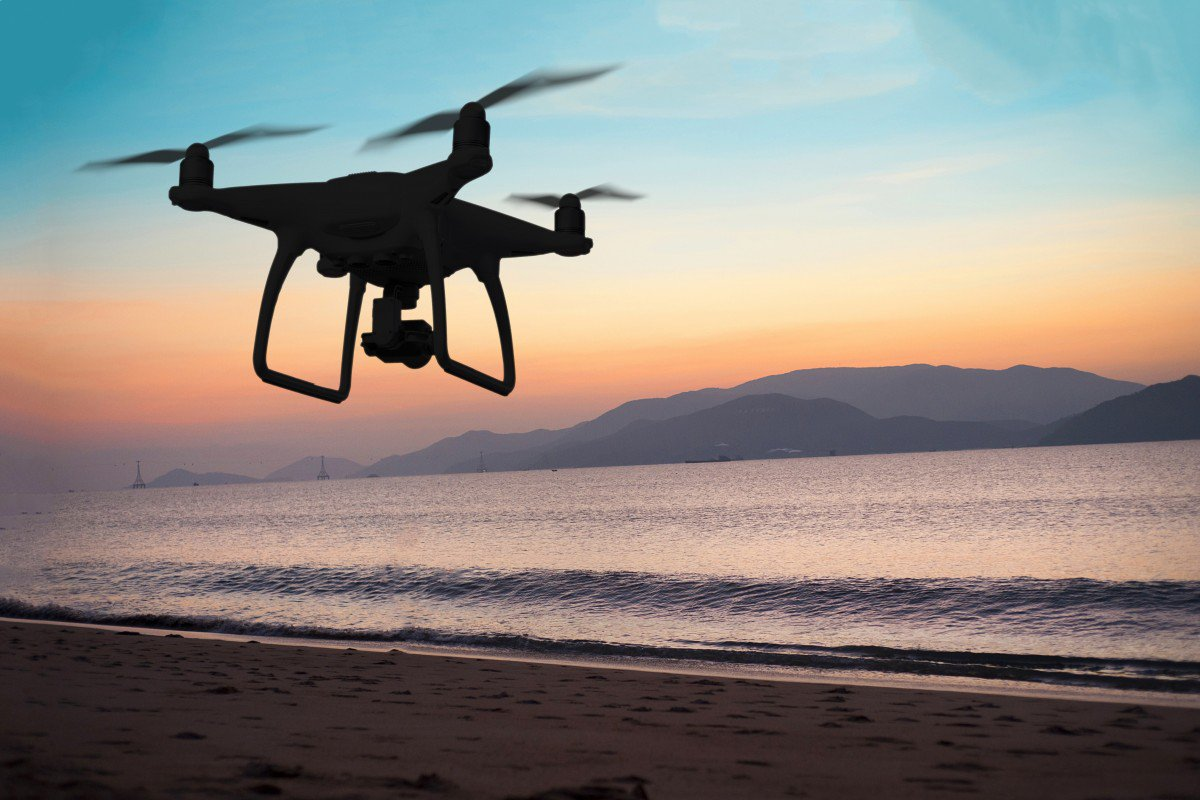drone: (72, 56, 658, 410)
